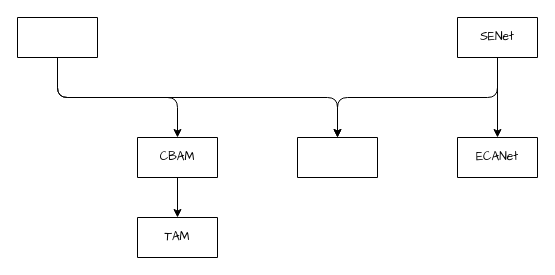
Image size: 555x275. Some labels were removed from this diagram. Here are the shapes that lost their labels. From the top down, the centre of each, then its label:
the point at 57,37: SAGAN
the point at 337,157: BAM
